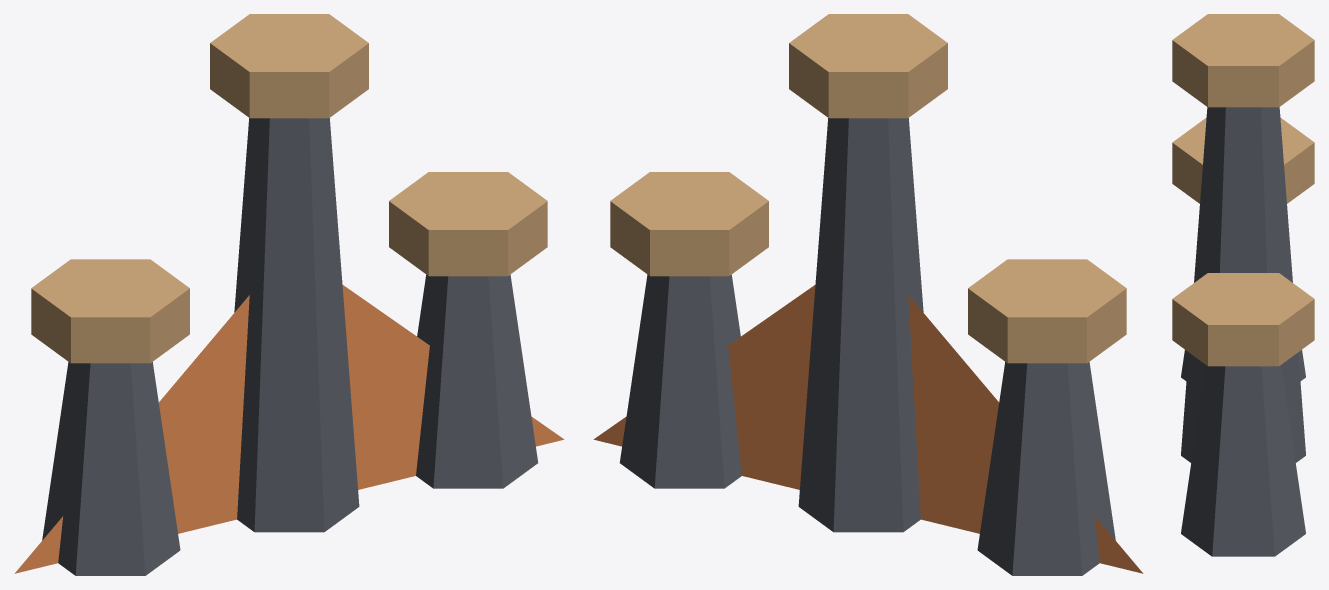
File: architecture.glb
The picture shows the model from 3 angles, left to right: view 1: azimuth 30°, elevation 25°; view 2: azimuth 150°, elevation 25°; view 3: azimuth 270°, elevation 25°; orthographic projection. The views are drawn at different scales.
Parts seen in each view (by area): view 1: surr roof silhouette; view 2: surr roof silhouette; view 3: surr roof silhouette.
Boxes of the visible parts, left/top/right/bottom form: surr roof silhouette: left=14, top=14, right=564, bottom=575; surr roof silhouette: left=593, top=14, right=1143, bottom=575; surr roof silhouette: left=1172, top=14, right=1314, bottom=556.
Size of the model in its own units: 2 by 1.61 by 0.5.
